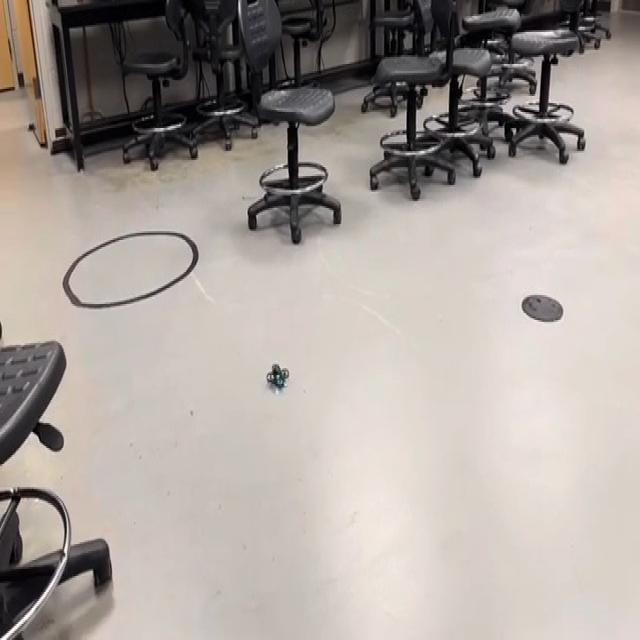drone: (258, 352, 296, 406)
